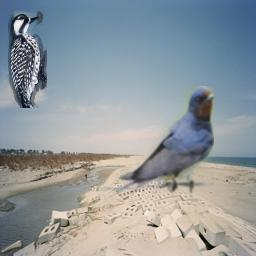Swallow: (97, 86, 214, 216)
Woodpecker: (8, 10, 47, 108)
